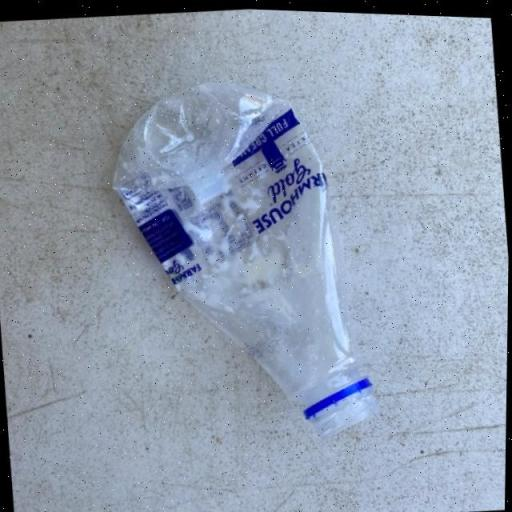plastic: (100, 62, 386, 453)
